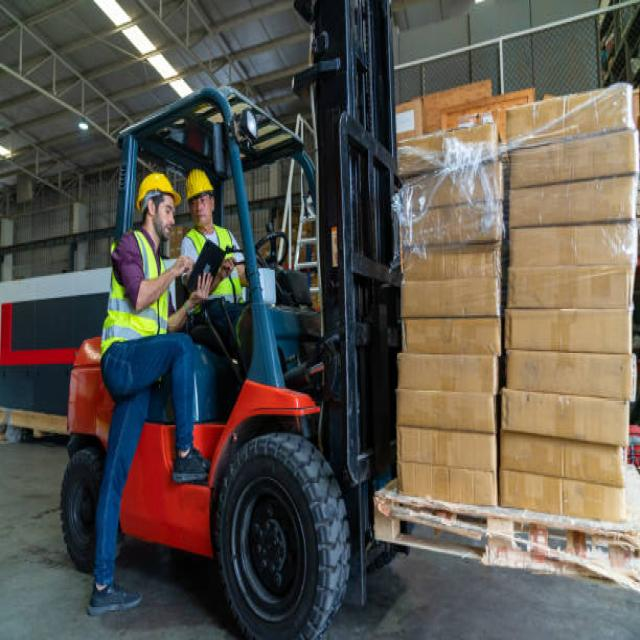Wooden-Pallets: (373, 491, 640, 596)
